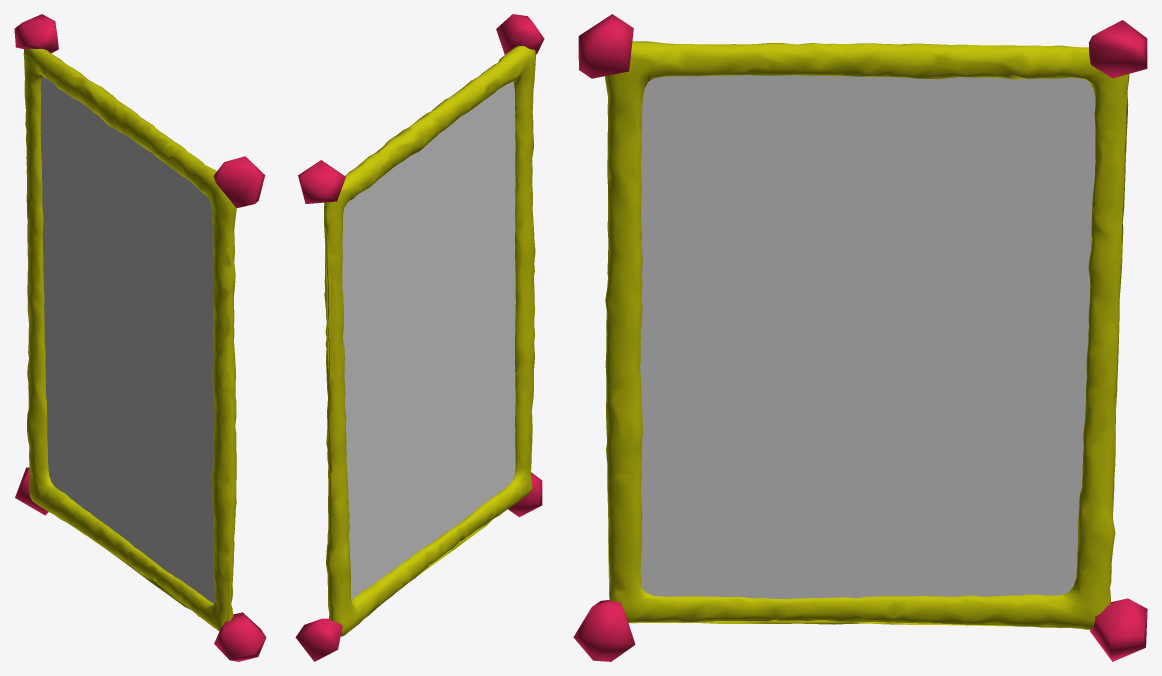
Rendered from msh_Picture_02.fbx.
The picture shows the model from 3 angles, left to right: view 1: azimuth 30°, elevation 25°; view 2: azimuth 150°, elevation 25°; view 3: azimuth 270°, elevation 25°; orthographic projection. The views are drawn at different scales.
Parts seen in each view (by area): view 1: picture2; view 2: picture2; view 3: picture2.
Boxes of the visible parts, left/top/right/bottom form: picture2: left=14, top=14, right=266, bottom=661; picture2: left=295, top=14, right=544, bottom=661; picture2: left=573, top=14, right=1147, bottom=661.
Bounding box in the file's own units: 0.2149 × 2.21 × 1.79.
